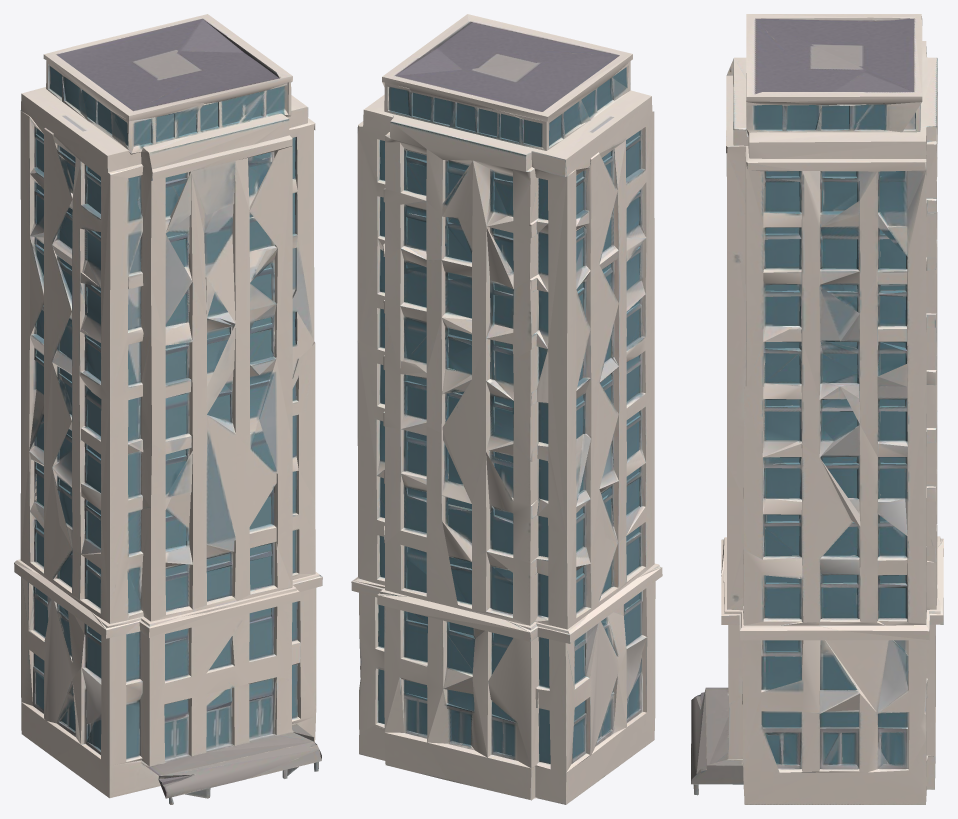
File: building-stepped.glb
The picture shows the model from 3 angles, left to right: view 1: azimuth 30°, elevation 25°; view 2: azimuth 150°, elevation 25°; view 3: azimuth 270°, elevation 25°; orthographic projection. The views are drawn at different scales.
Bounding box in the file's own units: 0.6381 × 1.9 × 0.6239.
Materials: 1 (1 with a texture image).
